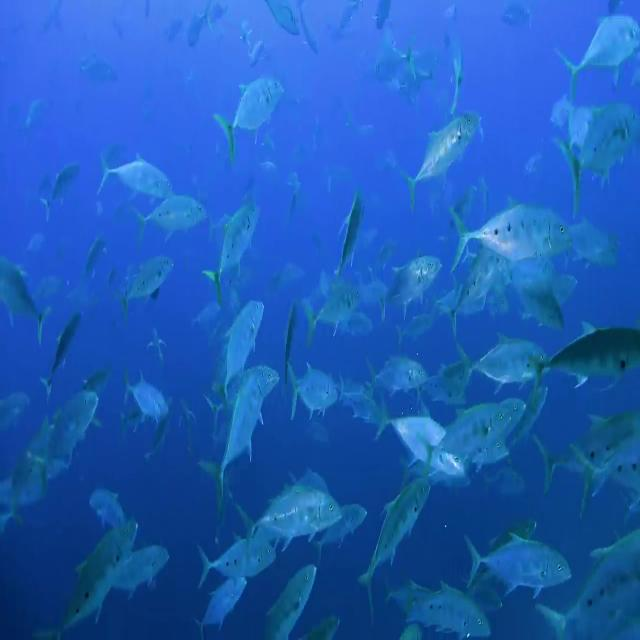fish: (47, 516, 139, 640), (357, 477, 436, 603), (207, 366, 280, 496), (239, 472, 346, 557), (531, 321, 640, 403), (370, 392, 468, 481), (30, 382, 103, 493), (449, 205, 576, 266), (403, 112, 480, 212), (465, 532, 572, 599), (203, 193, 264, 310), (422, 398, 511, 470), (559, 15, 640, 93), (455, 339, 546, 396), (221, 76, 285, 152), (98, 146, 176, 200)
